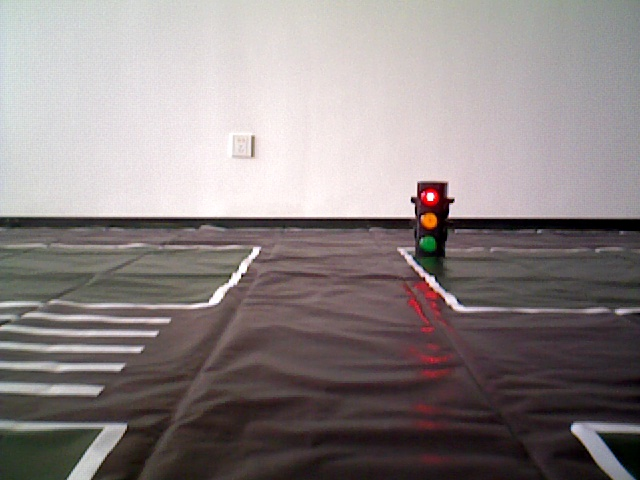red: (416, 183, 442, 253)
